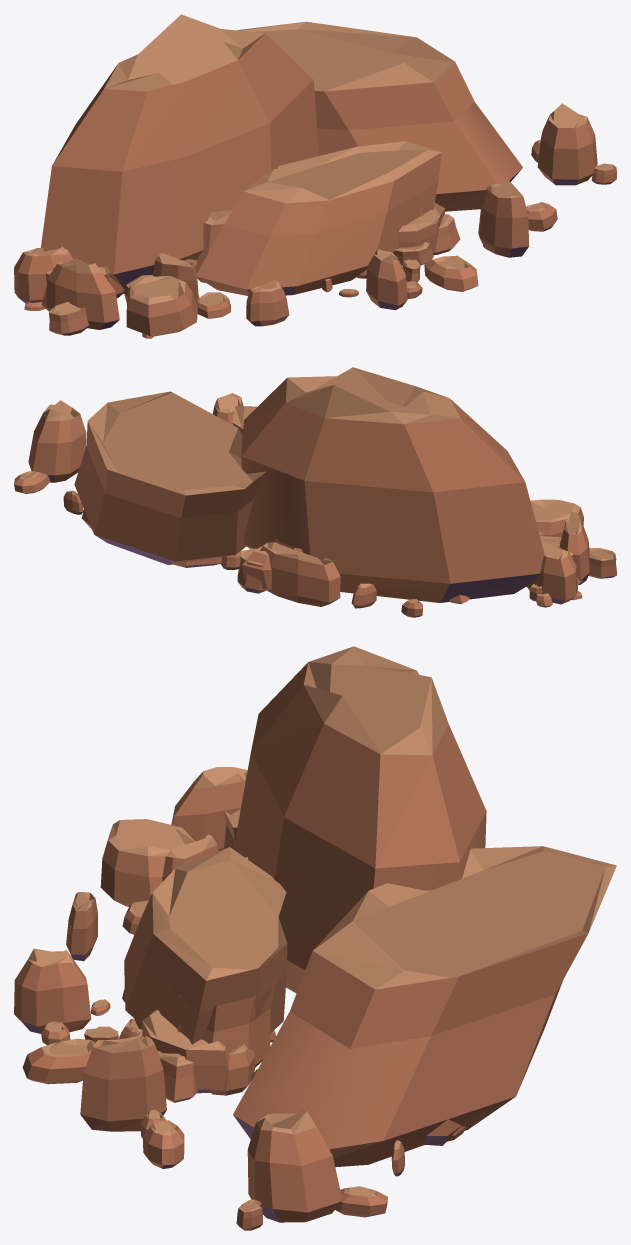
The model's file is sandstone-scree.glb.
The picture shows the model from 3 angles, top to bottom: view 1: azimuth 30°, elevation 25°; view 2: azimuth 150°, elevation 25°; view 3: azimuth 270°, elevation 25°; orthographic projection. The views are drawn at different scales.
Parts seen in each view (by area): view 1: sandstone-scree; view 2: sandstone-scree; view 3: sandstone-scree.
Boxes of the visible parts, x1,y1,x2,y2 form: sandstone-scree: [14, 14, 616, 338]; sandstone-scree: [14, 367, 616, 617]; sandstone-scree: [14, 646, 616, 1230].
Bounding box in the file's own units: 35 × 12 × 22.
